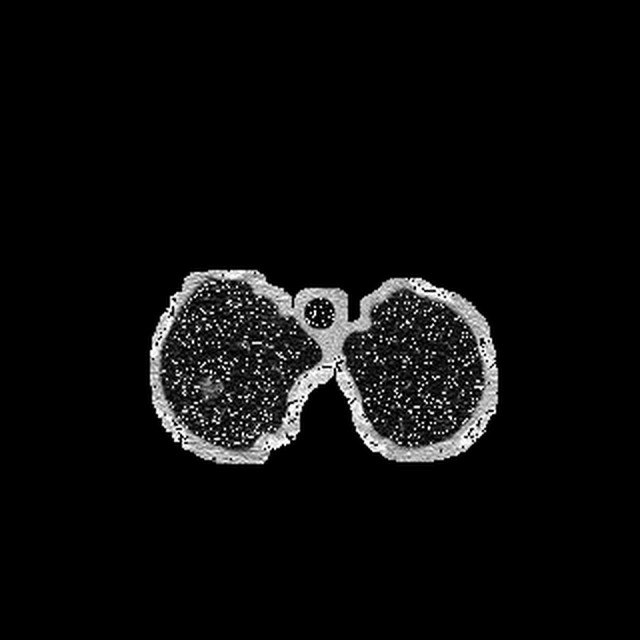PN: (200, 380, 216, 396)
